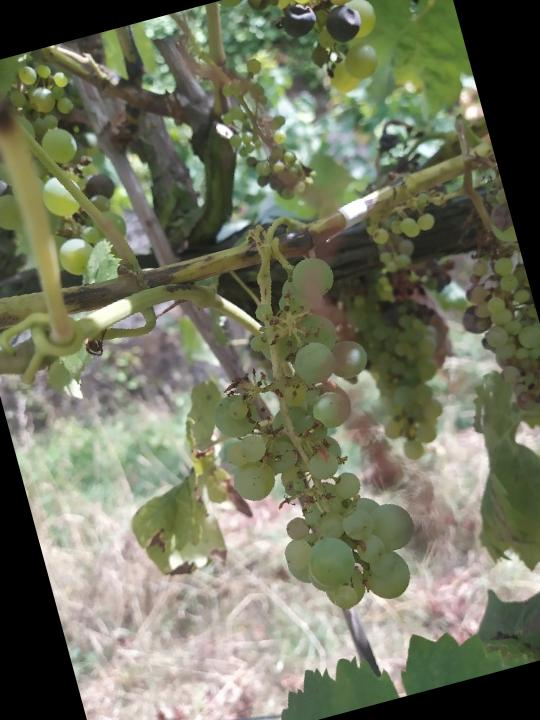grape: (171, 243, 434, 637)
